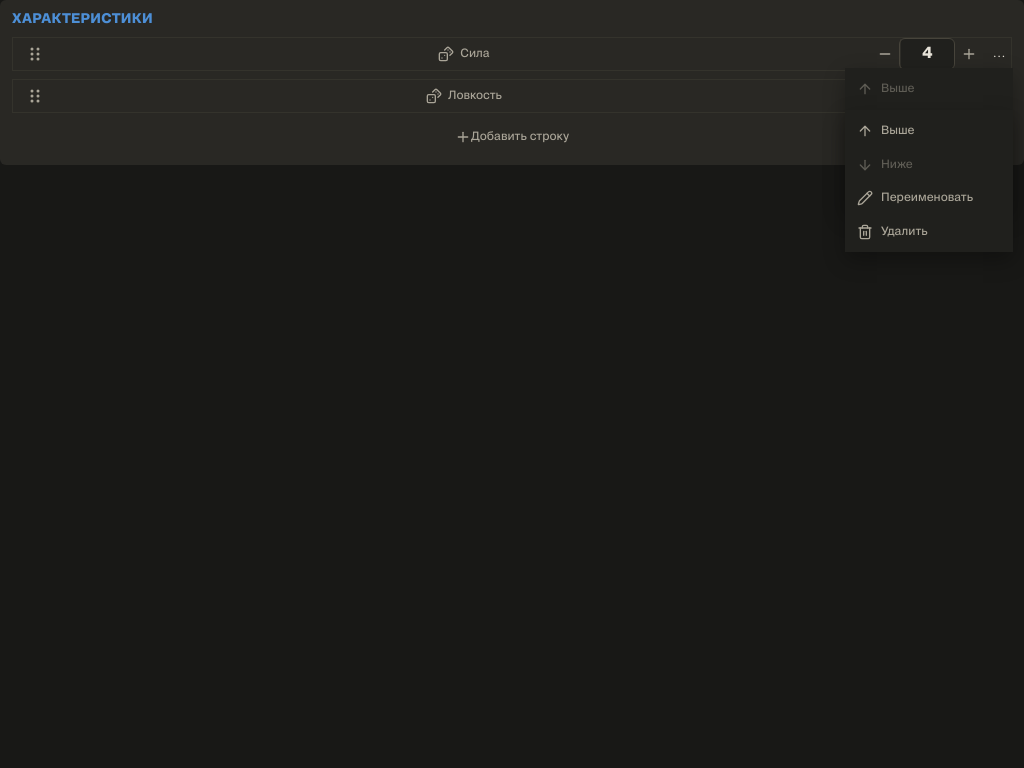
Test: карточка группы характеристик › показывает отказ вместо того, чтобы закрыть окно
Step 1. Click the button "Добавить строку" → click(512, 137), box [12, 121, 1012, 153]
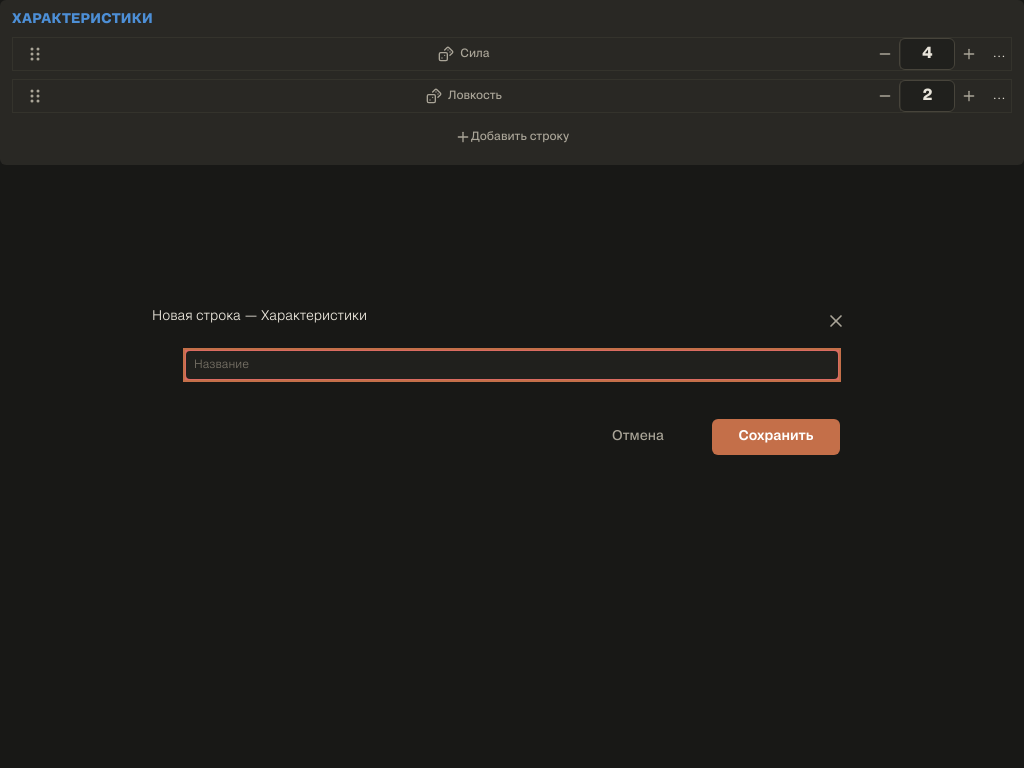
Step 2. Type "—" into the field labelled "Название" → (512, 365), box [194, 351, 830, 379]
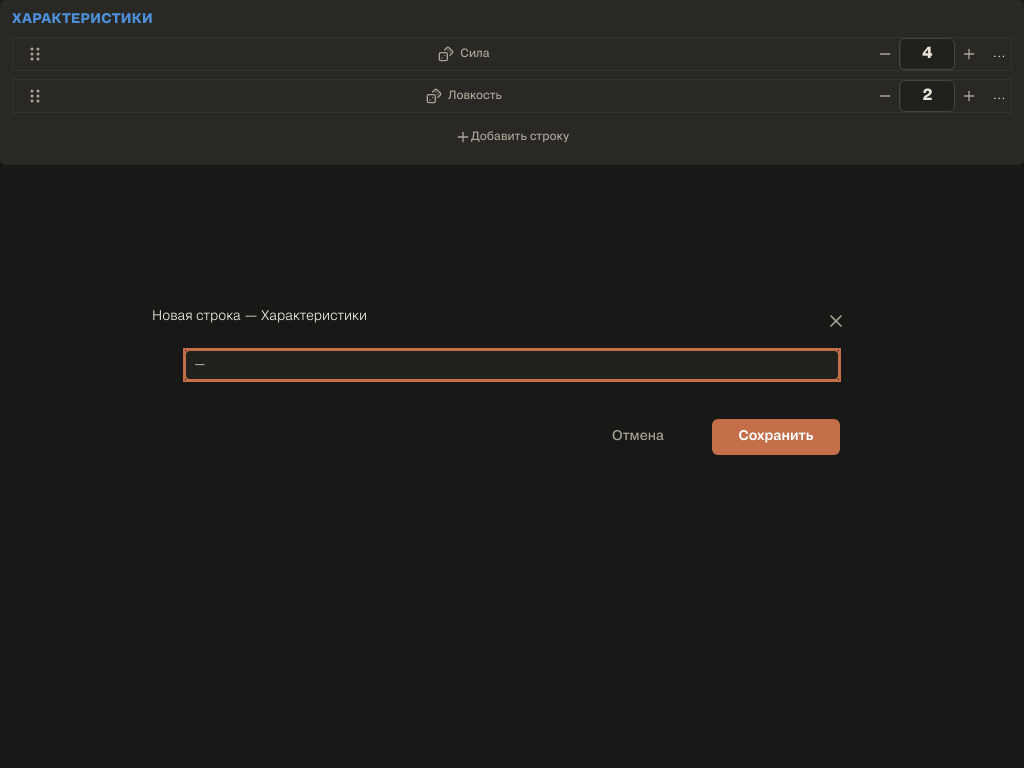
Step 3. Click the button "Сохранить" → click(776, 437), box [712, 419, 840, 455]
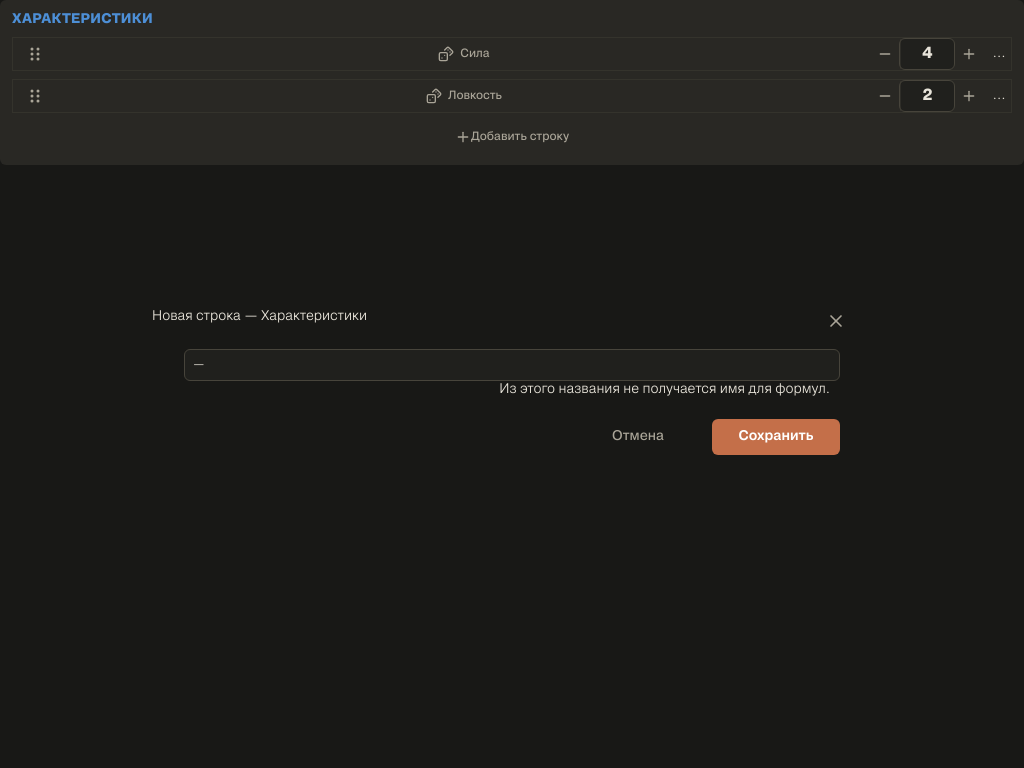
Expected: the text "Из этого названия не получается имя для формул." is shown, [499, 383, 830, 396]
